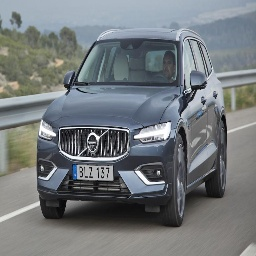sv_licence_plate: (71, 164, 113, 181)
